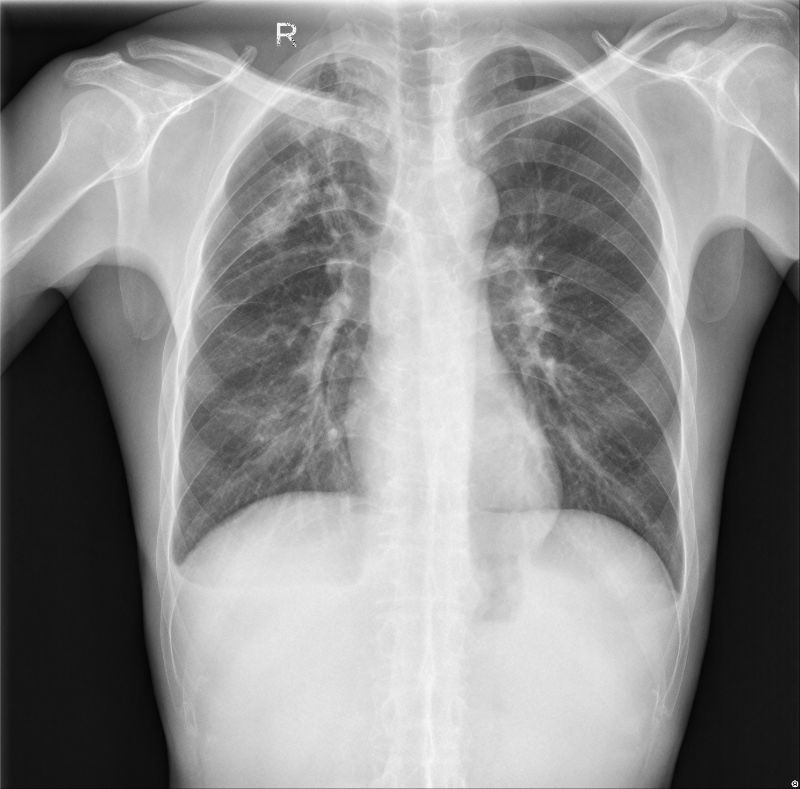Tuberculosis (TB): (247, 87, 357, 268)
